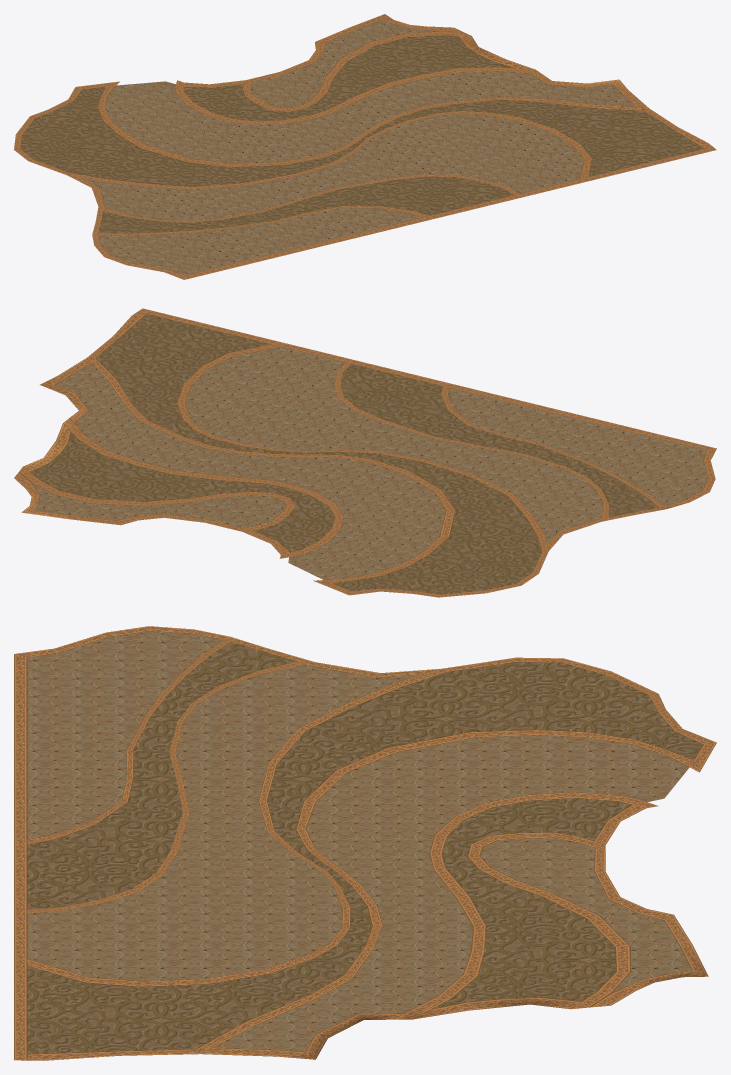
Rendered from EKH_THRONE_PS_TH_MAINFLOOR84857__GX.obj.
The picture shows the model from 3 angles, top to bottom: view 1: azimuth 30°, elevation 25°; view 2: azimuth 150°, elevation 25°; view 3: azimuth 270°, elevation 25°; orthographic projection. The views are drawn at different scales.
Parts seen in each view (by area): view 1: nFloor84857__GX; view 2: nFloor84857__GX; view 3: nFloor84857__GX.
Boxes of the visible parts, left/top/right/bottom form: nFloor84857__GX: left=14, top=14, right=716, bottom=279; nFloor84857__GX: left=14, top=308, right=716, bottom=597; nFloor84857__GX: left=14, top=626, right=716, bottom=1060.
Bounding box in the file's own units: 2162 × 0.000336 × 1478.
